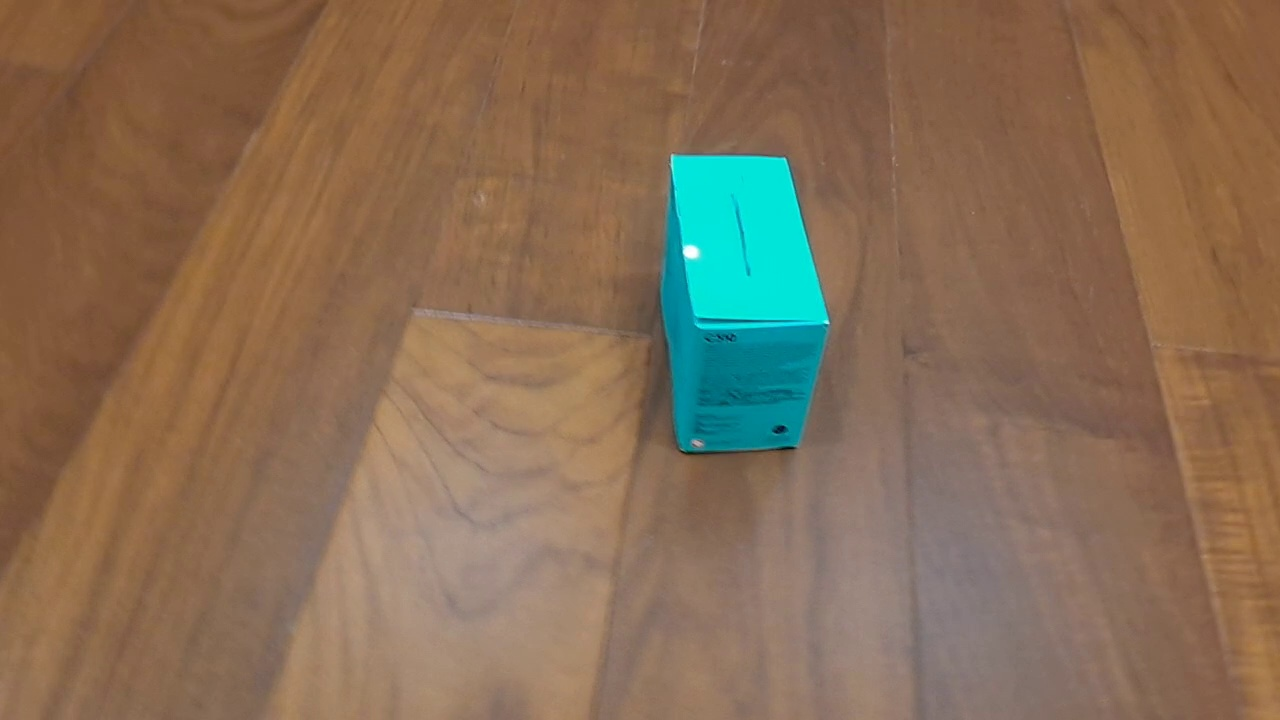webcam: (656, 152, 833, 457)
